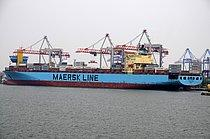Ship: (4, 30, 208, 96)
